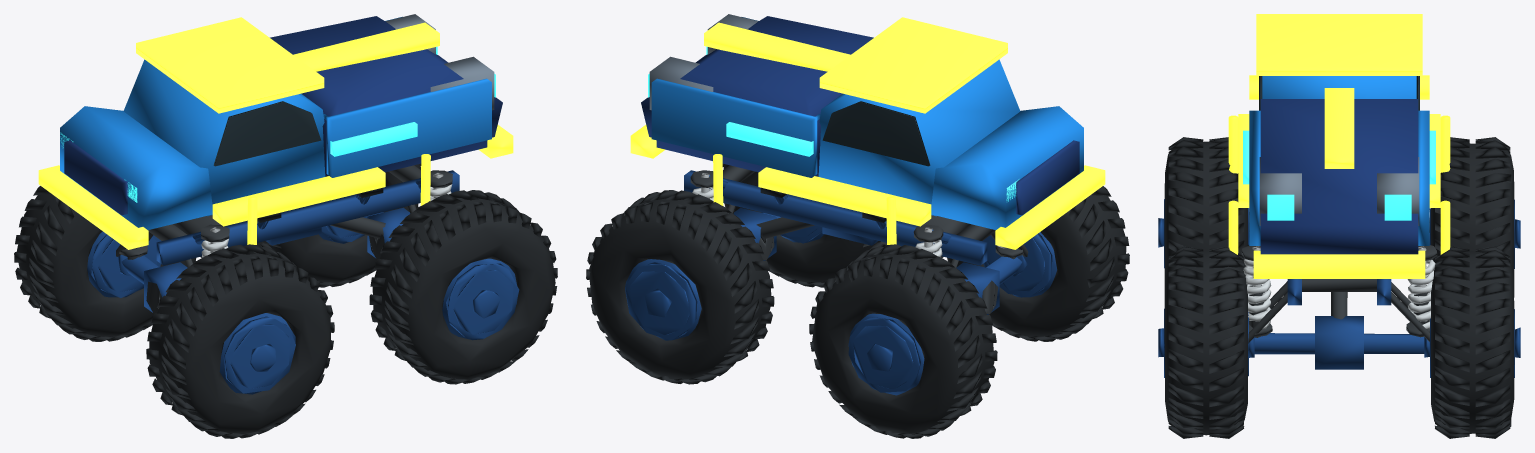
The model's file is HyperFlash_LOD2.fbx.
3 renders of one model, left to right at view 1: azimuth 30°, elevation 25°; view 2: azimuth 150°, elevation 25°; view 3: azimuth 270°, elevation 25°, orthographic.
Parts seen in each view (by area): view 1: HyperFlash_LOD2_sprung_body_Geometry, HyperFlash_LOD2_FL_Spin_Geometry, HyperFlash_LOD2_RL_Spin_Geometry, HyperFlash_LOD2_FR_Spin_Geometry, HyperFlash_LOD2_RR_Spin_Geometry, HyperFlash_LOD2_FRONT_axle_Geometry, HyperFlash_LOD2_REAR_axle_Geometry, HyperFlash_LOD2_Root_Geometry, HyperFlash_LOD2_FRONT_shock_-1_Geometry, HyperFlash_LOD2_REAR_shock_-1_Geometry; view 2: HyperFlash_LOD2_sprung_body_Geometry, HyperFlash_LOD2_RR_Spin_Geometry, HyperFlash_LOD2_FR_Spin_Geometry, HyperFlash_LOD2_FL_Spin_Geometry, HyperFlash_LOD2_RL_Spin_Geometry, HyperFlash_LOD2_FRONT_axle_Geometry, HyperFlash_LOD2_REAR_axle_Geometry, HyperFlash_LOD2_Root_Geometry, HyperFlash_LOD2_FRONT_shock_1_Geometry, HyperFlash_LOD2_REAR_shock_1_Geometry; view 3: HyperFlash_LOD2_sprung_body_Geometry, HyperFlash_LOD2_RR_Spin_Geometry, HyperFlash_LOD2_RL_Spin_Geometry, HyperFlash_LOD2_FR_Spin_Geometry, HyperFlash_LOD2_FL_Spin_Geometry, HyperFlash_LOD2_REAR_axle_Geometry, HyperFlash_LOD2_Root_Geometry, HyperFlash_LOD2_REAR_shock_-1_Geometry, HyperFlash_LOD2_REAR_shock_1_Geometry.
Part boxes in pixels (x1=…): HyperFlash_LOD2_sprung_body_Geometry: x1=38, y1=14, x2=513, y2=265; HyperFlash_LOD2_FL_Spin_Geometry: x1=146, y1=244, x2=334, y2=438; HyperFlash_LOD2_RL_Spin_Geometry: x1=369, y1=190, x2=557, y2=384; HyperFlash_LOD2_FR_Spin_Geometry: x1=14, y1=186, x2=196, y2=341; HyperFlash_LOD2_RR_Spin_Geometry: x1=258, y1=163, x2=421, y2=287; HyperFlash_LOD2_FRONT_axle_Geometry: x1=121, y1=255, x2=187, y2=313; HyperFlash_LOD2_REAR_axle_Geometry: x1=363, y1=207, x2=410, y2=259; HyperFlash_LOD2_Root_Geometry: x1=116, y1=204, x2=416, y2=267; HyperFlash_LOD2_FRONT_shock_-1_Geometry: x1=201, y1=224, x2=229, y2=257; HyperFlash_LOD2_REAR_shock_-1_Geometry: x1=430, y1=170, x2=452, y2=200; HyperFlash_LOD2_sprung_body_Geometry: x1=630, y1=14, x2=1105, y2=265; HyperFlash_LOD2_RR_Spin_Geometry: x1=586, y1=190, x2=774, y2=384; HyperFlash_LOD2_FR_Spin_Geometry: x1=809, y1=244, x2=997, y2=438; HyperFlash_LOD2_FL_Spin_Geometry: x1=947, y1=186, x2=1129, y2=341; HyperFlash_LOD2_RL_Spin_Geometry: x1=722, y1=163, x2=886, y2=287; HyperFlash_LOD2_FRONT_axle_Geometry: x1=956, y1=256, x2=1021, y2=314; HyperFlash_LOD2_REAR_axle_Geometry: x1=733, y1=207, x2=780, y2=260; HyperFlash_LOD2_Root_Geometry: x1=728, y1=204, x2=1028, y2=267; HyperFlash_LOD2_FRONT_shock_1_Geometry: x1=913, y1=224, x2=943, y2=257; HyperFlash_LOD2_REAR_shock_1_Geometry: x1=690, y1=170, x2=713, y2=200; HyperFlash_LOD2_sprung_body_Geometry: x1=1228, y1=14, x2=1450, y2=305; HyperFlash_LOD2_RR_Spin_Geometry: x1=1424, y1=246, x2=1520, y2=438; HyperFlash_LOD2_RL_Spin_Geometry: x1=1158, y1=246, x2=1254, y2=438; HyperFlash_LOD2_FR_Spin_Geometry: x1=1429, y1=137, x2=1520, y2=297; HyperFlash_LOD2_FL_Spin_Geometry: x1=1158, y1=137, x2=1249, y2=282; HyperFlash_LOD2_REAR_axle_Geometry: x1=1248, y1=316, x2=1424, y2=369; HyperFlash_LOD2_Root_Geometry: x1=1248, y1=223, x2=1429, y2=343; HyperFlash_LOD2_REAR_shock_-1_Geometry: x1=1241, y1=244, x2=1272, y2=337; HyperFlash_LOD2_REAR_shock_1_Geometry: x1=1406, y1=245, x2=1437, y2=337.
Size of the model in its own units: 526 by 388 by 414.
